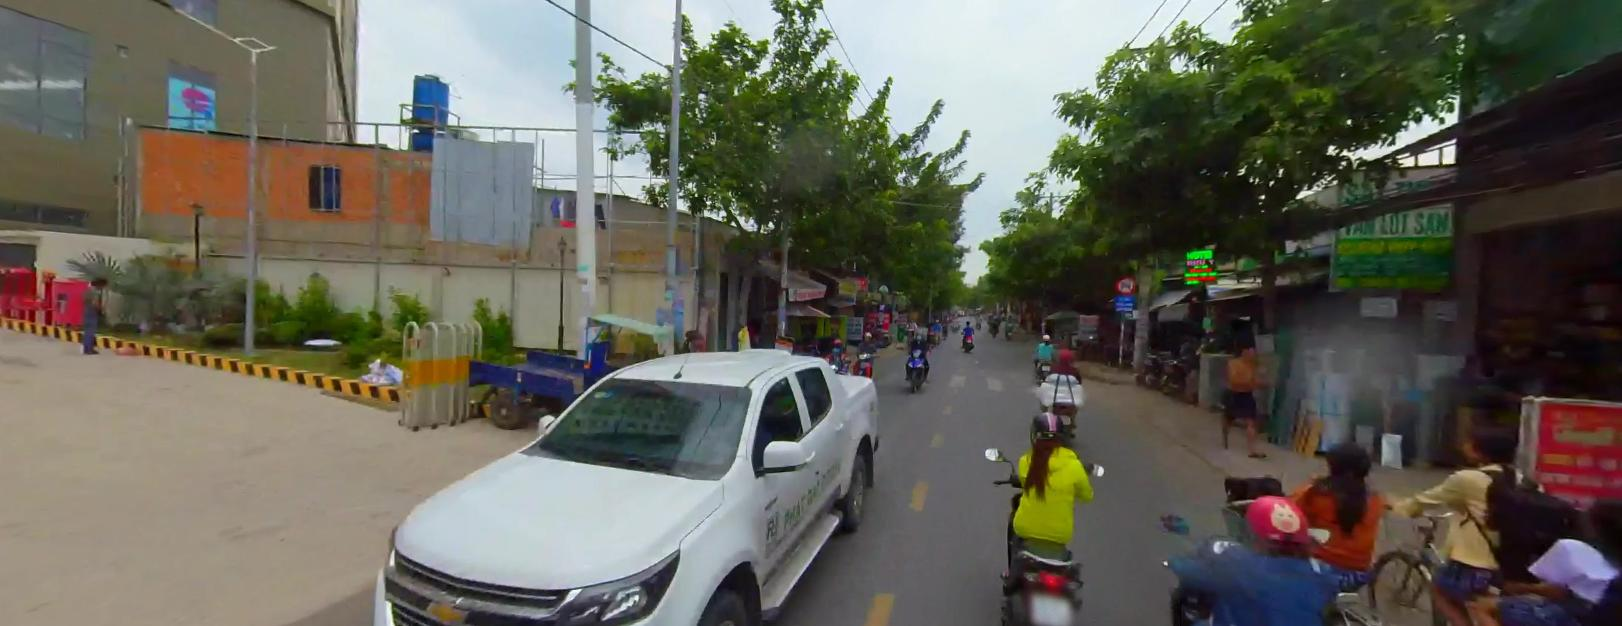Cam con lai: (1115, 274, 1135, 293)
